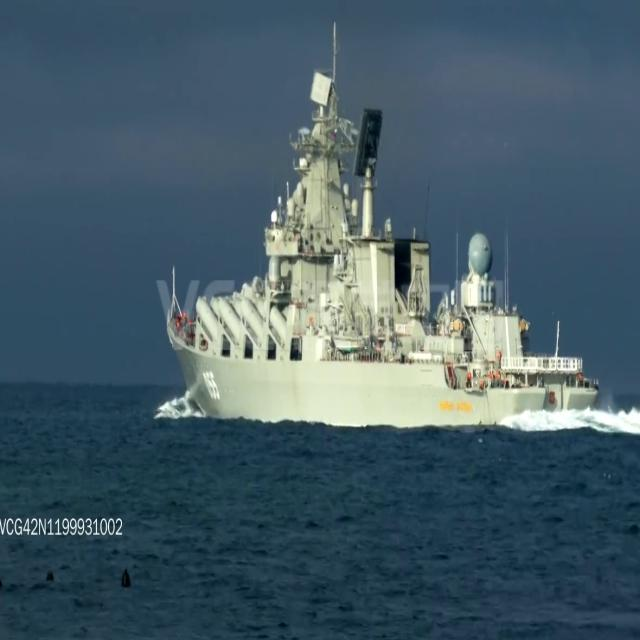navalvessels: (164, 73, 596, 424)
